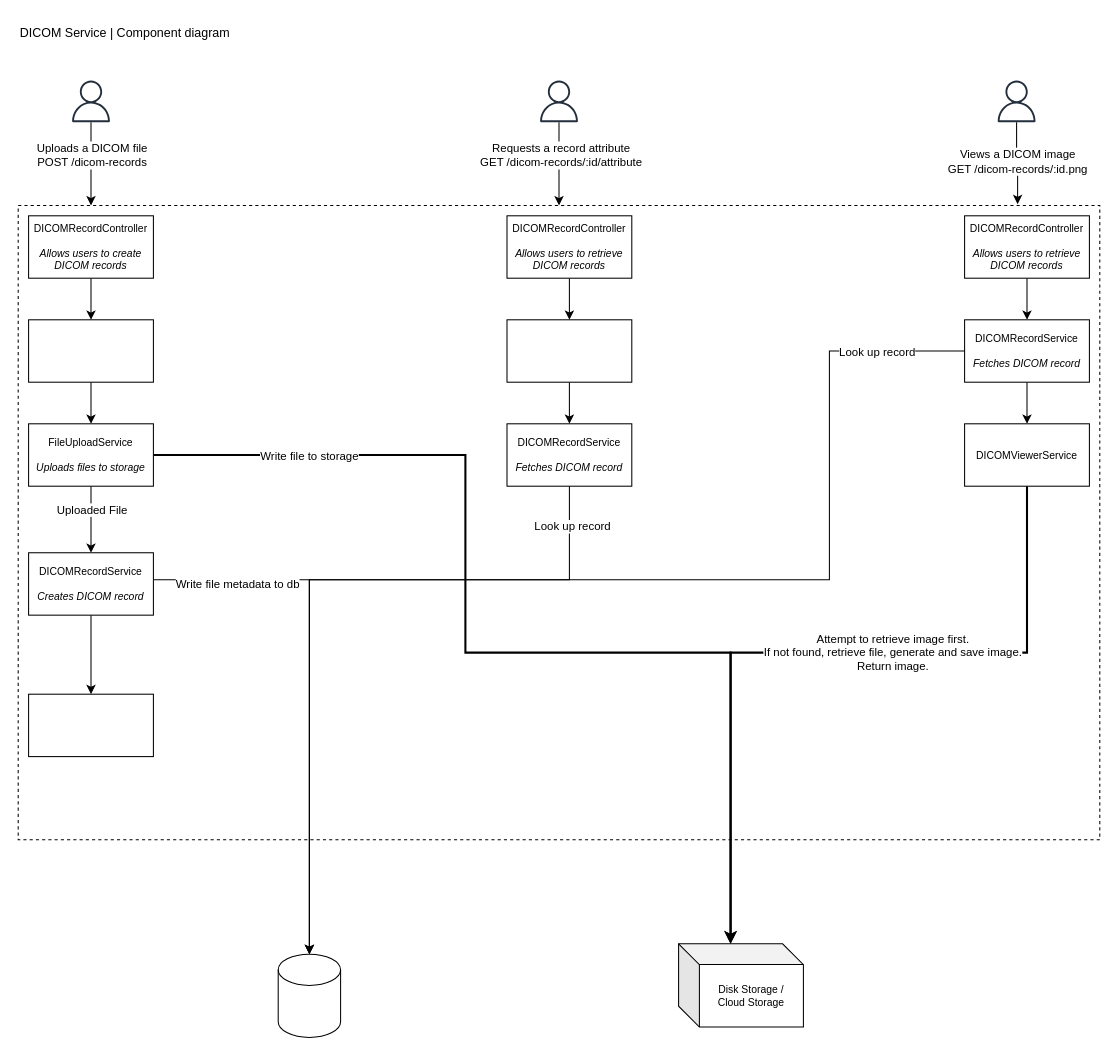
The diagram is 1118 pixels wide and 1056 high, and some of its shapes have lost their labels. The shapes that lost their labels are listed below. From the top down, each one's box as (x1, y1, x2, y2) in pixels, then its label:
(28, 319, 153, 382): DICOMCreateValidator
(506, 319, 632, 382): DICOMGetAttrValidator
(28, 693, 153, 757): DICOMReaderService
(277, 953, 341, 1037): Database
